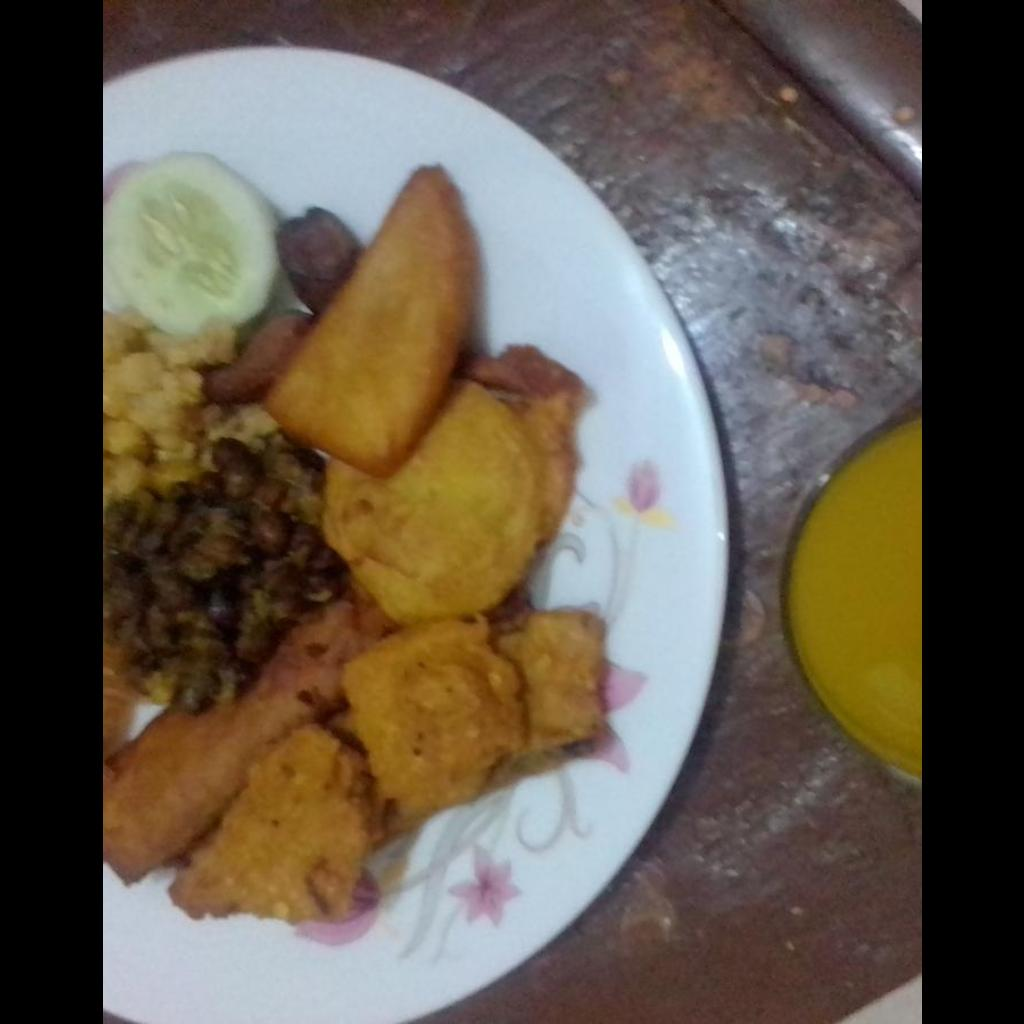beguni: (102, 604, 382, 882)
chola: (107, 439, 335, 708)
chop-alu: (325, 346, 579, 621)
cucumber: (104, 150, 274, 332)
daal: (102, 312, 273, 510)
dates: (206, 208, 360, 400)
peyaju: (172, 615, 602, 920)
sweets: (268, 165, 475, 460)
